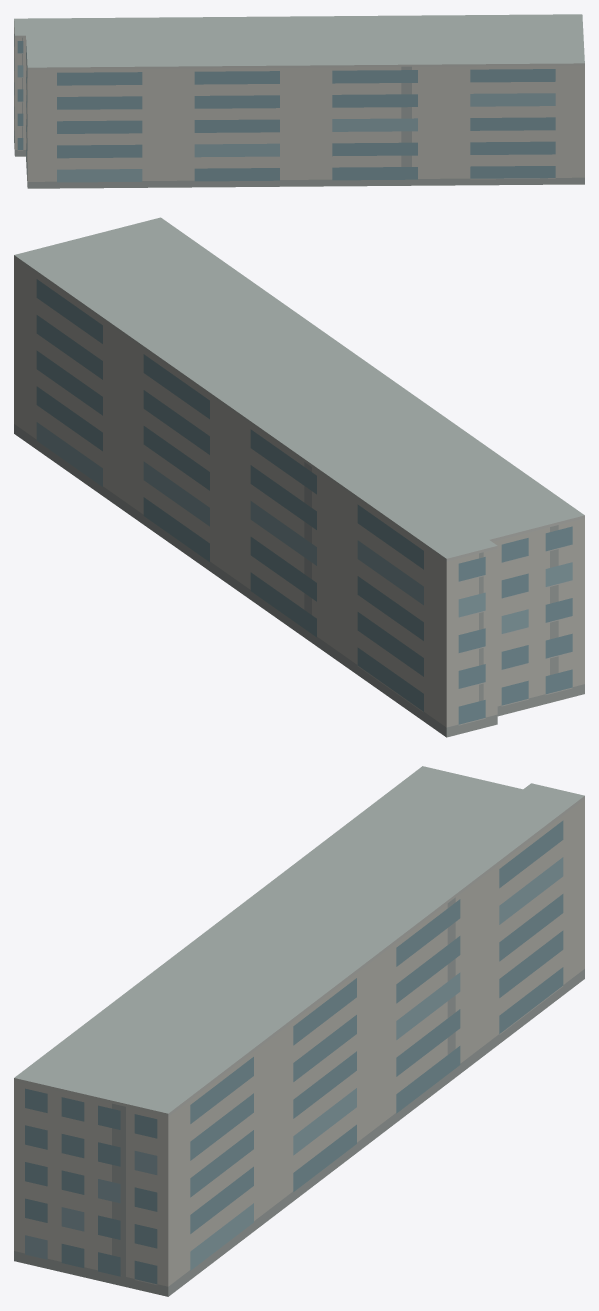
File: survey-upis-32706644.glb
3 renders of one model, top to bottom at view 1: azimuth 30°, elevation 25°; view 2: azimuth 150°, elevation 25°; view 3: azimuth 270°, elevation 25°, orthographic. The views are drawn at different scales.
Parts seen in each view (by area): view 1: survey-upis-32706644.tmp; view 2: survey-upis-32706644.tmp; view 3: survey-upis-32706644.tmp.
Part boxes in pixels (box(x1,y1,x2,y2)): survey-upis-32706644.tmp: box(14, 14, 584, 188); survey-upis-32706644.tmp: box(14, 217, 584, 737); survey-upis-32706644.tmp: box(14, 766, 584, 1296).
Size of the model in its own units: 62.07 by 15.25 by 43.08.
